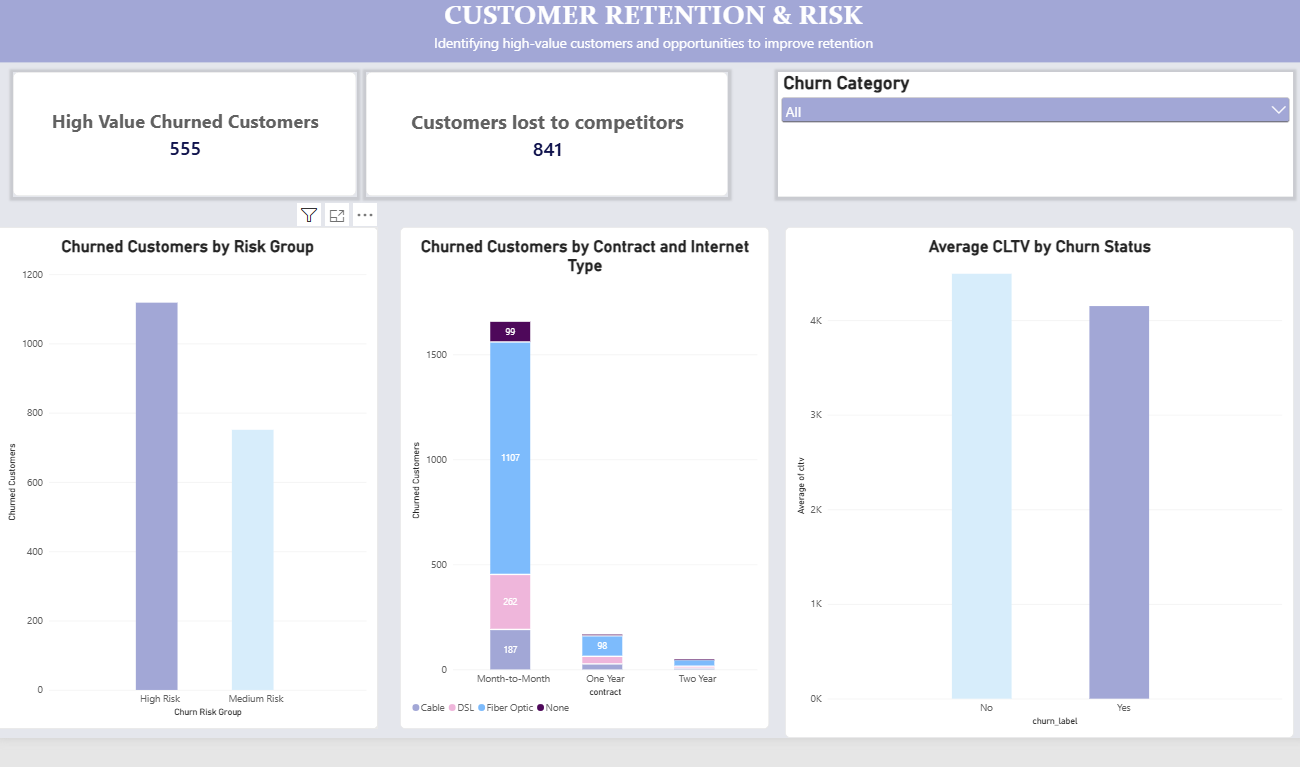

This screenshot's page, from the dashboard's own definition file:
{"tool":"powerbi","page":{"name":"Customer Retention & Risk","canvas":[1920,1080],"ordinal":2},"visuals":[{"type":"textbox","title":"CUSTOMER RETENTION & RISK","box":[0,0,1920,181],"z":0},{"type":"cardVisual","fields":{"Data":["public churn_analysis.High Value Churned Customers"]},"box":[25.5,108.3,501.9,181.6],"z":1000},{"type":"clusteredColumnChart","title":"Churned Customers by Risk Group","fields":{"Category":["public churn_analysis.Churn Risk Group"],"Y":["public churn_analysis.Churned Customers"]},"box":[0,334.6,557.7,732.9],"z":2000},{"type":"clusteredColumnChart","title":"Average CLTV by Churn Status","fields":{"Category":["public churn_analysis.churn_label"],"Y":["Avg(public churn_analysis.cltv)"]},"box":[1152,334.6,742.5,745.7],"z":3000},{"type":"columnChart","title":"Churned Customers by Contract and Internet Type","fields":{"Category":["public churn_analysis.contract"],"Series":["public churn_analysis.internet_type"],"Y":["public churn_analysis.Churned Customers"]},"box":[589.5,334.6,538.6,732.9],"z":4000},{"type":"slicer","fields":{"Values":["public churn_analysis.churn_category"]},"box":[1142.4,108.3,752.1,181.6],"z":5000},{"type":"cardVisual","fields":{"Data":["public churn_analysis.Competitor Churned Customers"]},"box":[540.1,108.3,529,181.6],"z":6000}]}

Visuals, with their boxes on the page's 1920x1080 design canvas (x1, y1, x2, y2). These are canvas units, not pixel positions in the 1300x767 screenshot, which may show the page scaled, cropped or inside an application window:
"CUSTOMER RETENTION & RISK" textbox: (left=0, top=0, right=1920, bottom=181)
cardVisual - public churn_analysis.High Value Churned Customers: (left=26, top=108, right=527, bottom=290)
"Churned Customers by Risk Group" clusteredColumnChart: (left=0, top=335, right=558, bottom=1068)
"Average CLTV by Churn Status" clusteredColumnChart: (left=1152, top=335, right=1894, bottom=1080)
"Churned Customers by Contract and Internet Type" columnChart: (left=590, top=335, right=1128, bottom=1068)
slicer - public churn_analysis.churn_category: (left=1142, top=108, right=1894, bottom=290)
cardVisual - public churn_analysis.Competitor Churned Customers: (left=540, top=108, right=1069, bottom=290)
